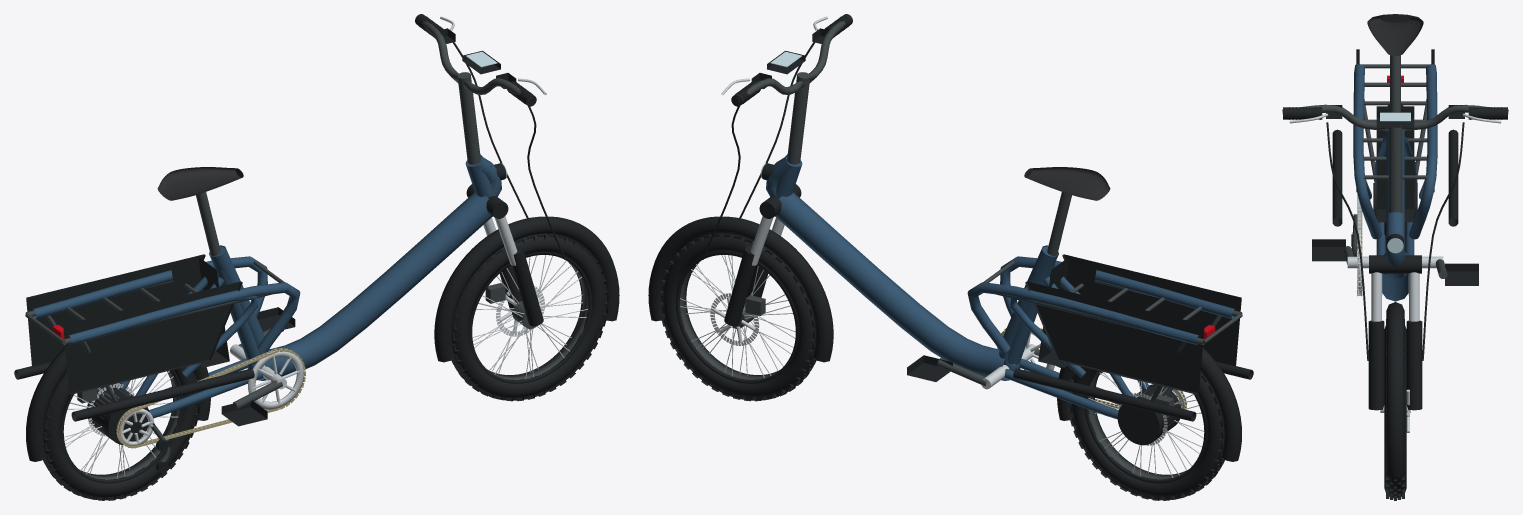
Rendered from aventon-abound.glb.
The picture shows the model from 3 angles, left to right: view 1: azimuth 30°, elevation 25°; view 2: azimuth 150°, elevation 25°; view 3: azimuth 270°, elevation 25°; orthographic projection.
Visible parts, largest first — view 1: Bodywork | black, BatteryMount | navy, FrontWheel | rubber, Bodywork | navy, RearWheel | rubber, Chassis | navy, Drive | steel, FrontWheel | steel, Cockpit | graphite, Fork | black, Bodywork | seat, FrontWheel | graphite (+14 smaller); view 2: Bodywork | black, BatteryMount | navy, FrontWheel | rubber, Bodywork | navy, RearWheel | rubber, Chassis | navy, FrontWheel | steel, Cockpit | graphite, Fork | black, Bodywork | seat, MotorMount | black, FrontWheel | black (+12 smaller); view 3: Bodywork | black, Bodywork | navy, Fork | black, Cockpit | graphite, Cockpit | rubber, Chassis | navy, Bodywork | graphite, BatteryMount | black, Bodywork | seat, Drive | black, FrontWheel | rubber, Fork | steel (+7 smaller).
Boxes of the visible parts, box(x1,y1,x2,y2) form: Bodywork | black: box(14, 163, 619, 461); BatteryMount | navy: box(258, 192, 492, 380); FrontWheel | rubber: box(451, 233, 608, 401); Bodywork | navy: box(32, 256, 300, 377); RearWheel | rubber: box(43, 366, 200, 500); Chassis | navy: box(120, 154, 501, 418); Drive | steel: box(117, 344, 304, 445); FrontWheel | steel: box(472, 255, 587, 378); Cockpit | graphite: box(422, 21, 532, 164); Fork | black: box(466, 184, 543, 326); Bodywork | seat: box(157, 167, 243, 200); FrontWheel | graphite: box(485, 261, 588, 379); Bodywork | black: box(648, 163, 1253, 461); BatteryMount | navy: box(775, 192, 1009, 380); FrontWheel | rubber: box(659, 233, 816, 401); Bodywork | navy: box(967, 256, 1235, 377); RearWheel | rubber: box(1067, 366, 1224, 500); Chassis | navy: box(766, 154, 1148, 419); FrontWheel | steel: box(680, 255, 795, 378); Cockpit | graphite: box(735, 21, 845, 164); Fork | black: box(724, 184, 801, 326); Bodywork | seat: box(1024, 167, 1110, 200); MotorMount | black: box(1117, 384, 1181, 445); FrontWheel | black: box(676, 252, 798, 383); Bodywork | black: box(1332, 49, 1458, 477); Bodywork | navy: box(1353, 64, 1437, 239); Fork | black: box(1368, 255, 1422, 410); Cockpit | graphite: box(1282, 104, 1508, 212); Cockpit | rubber: box(1283, 107, 1507, 360); Chassis | navy: box(1374, 130, 1416, 279); Bodywork | graphite: box(1355, 64, 1435, 182); BatteryMount | black: box(1376, 106, 1414, 222); Bodywork | seat: box(1367, 14, 1423, 55); Drive | black: box(1312, 234, 1478, 285); FrontWheel | rubber: box(1384, 319, 1406, 500); Fork | steel: box(1371, 272, 1419, 321).
Bounding box in the file's own units: 2.03 × 1.16 × 0.6634.
